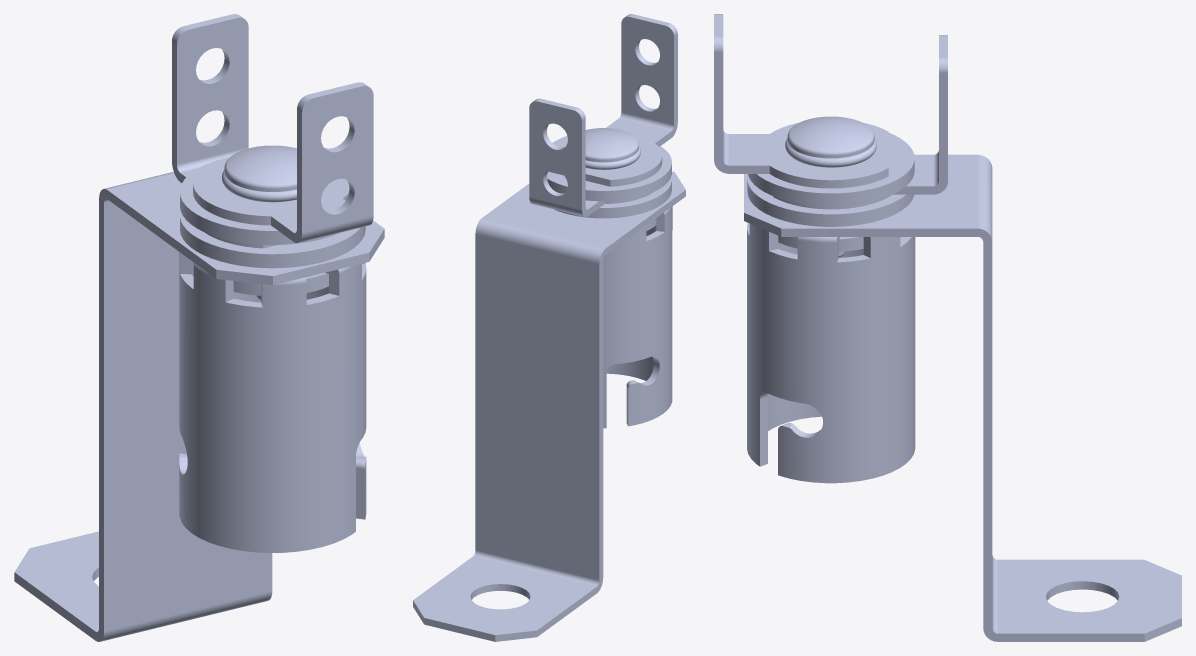
The model's file is Lamp Socket 44, Under Playfield, Bally (E-120-162).fbx.
3 renders of one model, left to right at view 1: azimuth 30°, elevation 25°; view 2: azimuth 150°, elevation 25°; view 3: azimuth 270°, elevation 25°, orthographic. The views are drawn at different scales.
Visible parts, largest first — view 1: 44 mtg bkt 1250, 44 Socket base, 44 - 90 Tab (×2), Fiber washer (×2), 44 Rivet spring etc, Fiber washer INNER; view 2: 44 mtg bkt 1250, 44 - 90 Tab (×2), 44 Socket base, Fiber washer (×2), 44 Rivet spring etc; view 3: 44 Socket base, 44 mtg bkt 1250, 44 - 90 Tab (×2), Fiber washer (×2), 44 Rivet spring etc.
Boxes of the visible parts, <box> form: 44 mtg bkt 1250: <box>14,172,384,641</box>; 44 Socket base: <box>179,252,366,552</box>; 44 - 90 Tab (×2): <box>172,14,373,248</box>; Fiber washer (×2): <box>180,157,365,268</box>; 44 Rivet spring etc: <box>222,145,296,300</box>; Fiber washer INNER: <box>193,262,328,295</box>; 44 mtg bkt 1250: <box>413,171,685,641</box>; 44 - 90 Tab (×2): <box>529,14,677,216</box>; 44 Socket base: <box>603,206,672,428</box>; Fiber washer (×2): <box>547,146,671,218</box>; 44 Rivet spring etc: <box>585,128,640,169</box>; 44 Socket base: <box>747,222,915,483</box>; 44 mtg bkt 1250: <box>744,154,1181,641</box>; 44 - 90 Tab (×2): <box>714,14,947,209</box>; Fiber washer (×2): <box>747,133,914,226</box>; 44 Rivet spring etc: <box>785,116,876,257</box>.
Size of the model in its own units: 1.12 by 4.09 by 2.99.
